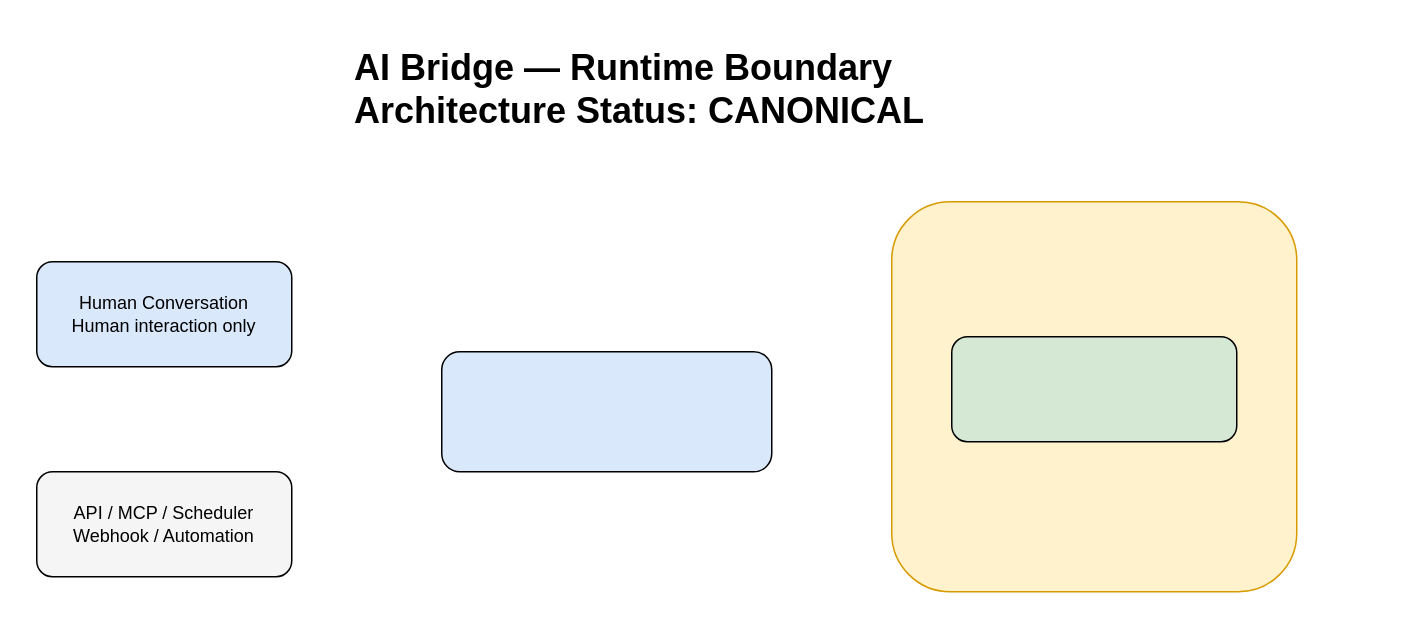
The diagram is 1428 pixels wide and 618 high, and some of its shapes have lost their labels. The centre of each missing label's shape, as x and y in pixels:
"Mission first runtime business object" belongs at (x=1093, y=388).
"Mission Intake Semantics scope • authorization • correlation" belongs at (x=606, y=411).
